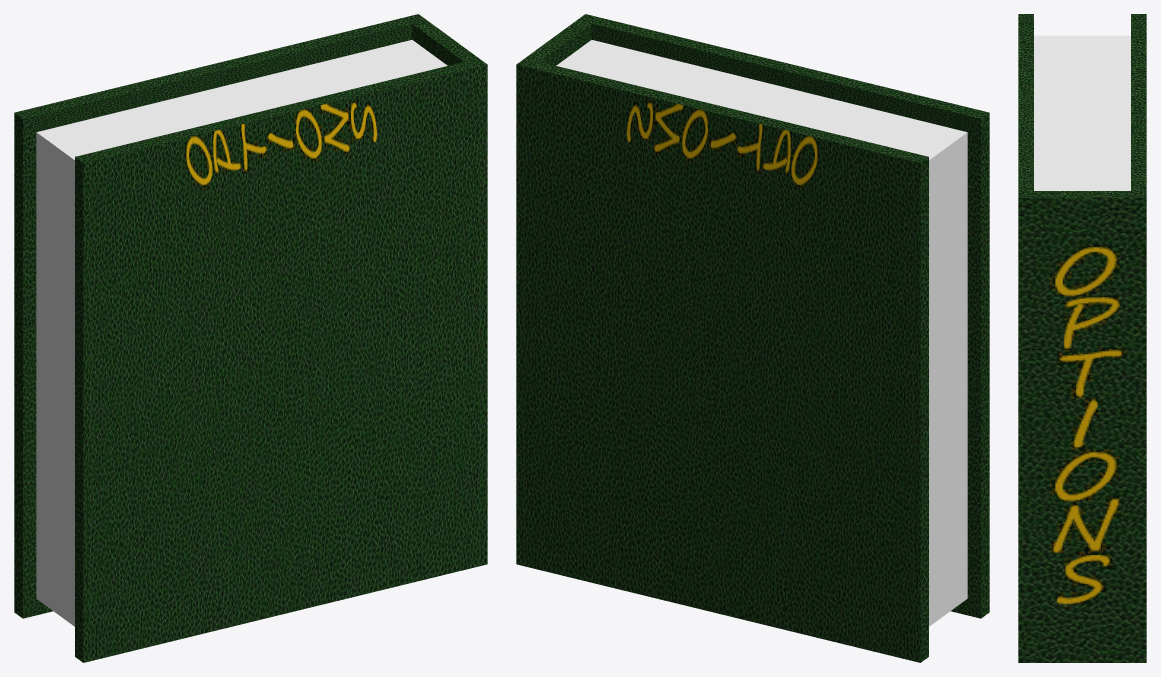
Rendered from BookOptions.obj.
3 views of the same model, side by side, from view 1: azimuth 30°, elevation 25°; view 2: azimuth 150°, elevation 25°; view 3: azimuth 270°, elevation 25° (orthographic). The views are drawn at different scales.
Visible parts, largest first — view 1: book.045; view 2: book.045; view 3: book.045.
Part boxes in pixels (bbox=[...]): book.045: bbox=[14, 14, 487, 662]; book.045: bbox=[516, 14, 989, 662]; book.045: bbox=[1018, 14, 1146, 662].
Bounding box in the file's own units: 0.2094 × 0.2476 × 0.0619.
